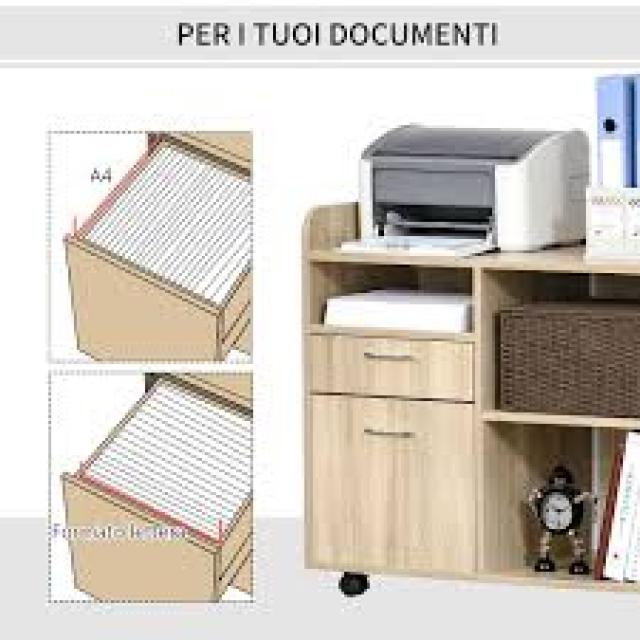printer: (350, 120, 589, 253)
